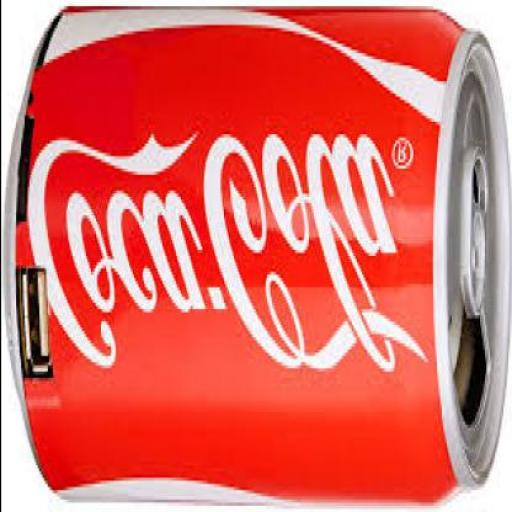metal: (5, 6, 511, 507)
